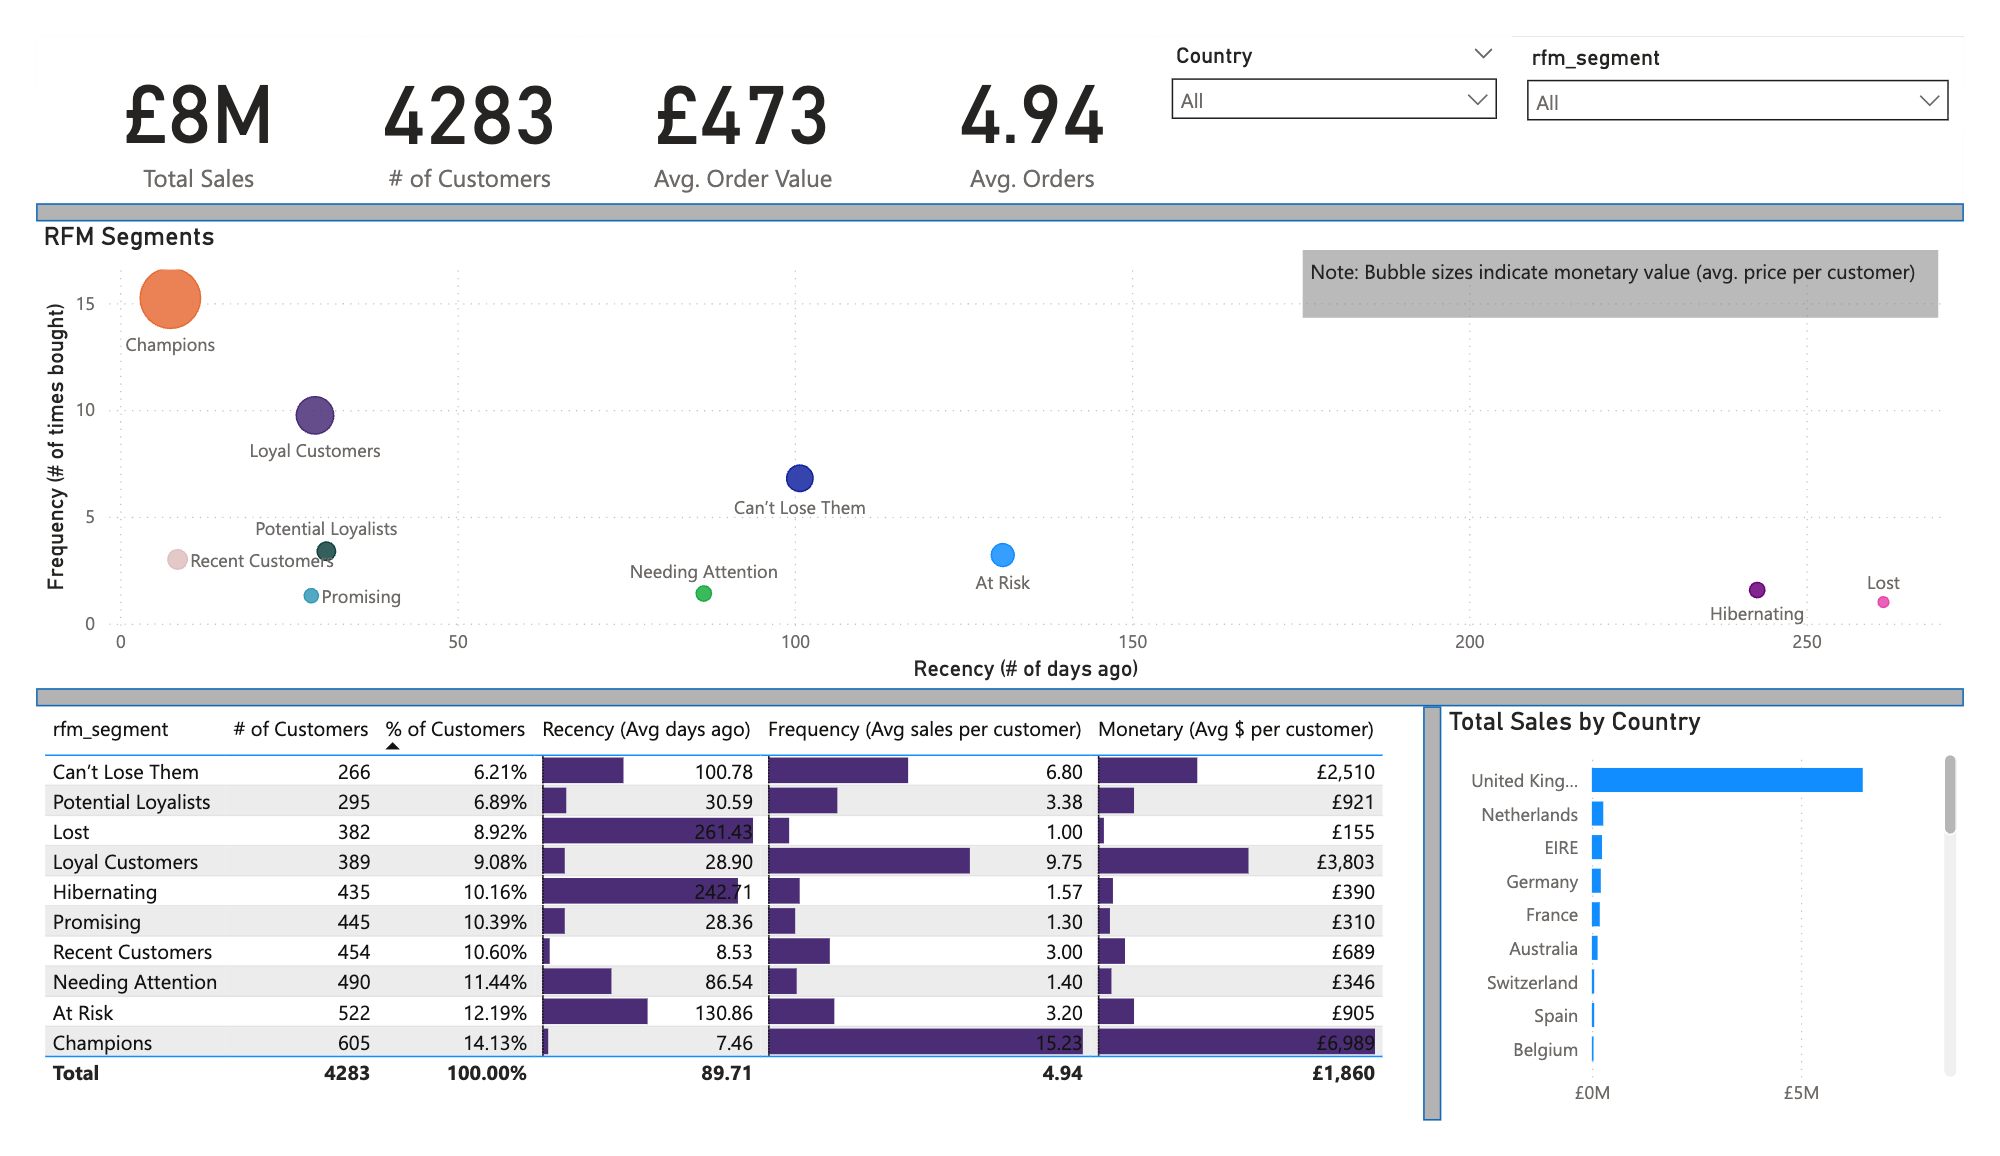

This screenshot's page, from the dashboard's own definition file:
{"tool":"powerbi","page":{"name":"Overview","canvas":[1280,720],"ordinal":0},"visuals":[{"type":"card","fields":{"Values":["Avg(Customers.frequency)"]},"box":[579.4,0,165,110.6],"z":0},{"type":"card","fields":{"Values":["Sum(Customers.monetary)"]},"box":[0,0,215.8,110.6],"z":1000},{"type":"card","fields":{"Values":["CountNonNull(Customers.CustomerID)"]},"box":[215.8,0,144.2,111.5],"z":2000},{"type":"card","fields":{"Values":["Orders.AOV"]},"box":[360,0,219.4,111.5],"z":3000},{"type":"scatterChart","title":"RFM Segments","fields":{"Y":["Customers.frequency"],"X":["Customers.recency"],"Series":["Customers.rfm_segment"],"Size":["Sum(Customers.monetary)"]},"box":[0,123,1280,310],"z":4000},{"type":"slicer","fields":{"Values":["Customers.Country"]},"box":[744.5,0,235.8,65.3],"z":5000},{"type":"tableEx","fields":{"Values":["Customers.rfm_segment","CountNonNull(Customers.CustomerID)","Divide(CountNonNull(Customers.CustomerID), ScopedEval(CountNonNull(Customers.CustomerID), [Role.Columns]))","Avg(Customers.recency)","Avg(Customers.frequency)","Avg(Customers.monetary)"]},"box":[0,445.2,921.3,263.9],"z":6000},{"type":"slicer","fields":{"Values":["Customers.rfm_segment"]},"box":[980.3,0.9,300.2,62.6],"z":7000},{"type":"clusteredBarChart","title":"Total Sales by Country","fields":{"Category":["Customers.Country"],"Y":["Sum(Customers.monetary)"]},"box":[933,445,347,275],"z":8000},{"type":"textbox","box":[841,142,422,45],"z":9000},{"type":"shape","box":[0,433,1280,12],"z":10000},{"type":"shape","box":[0,111,1280,12],"z":11000},{"type":"shape","box":[921,445,12,275],"z":12000}]}

Visuals, with their boxes in screenshot pixels (x1, y1, x2, y2), scaled from the page's 1280x720 canvas onto the 2000x1156 screenshot:
card - Avg(Customers.frequency): bbox=(905, 0, 1163, 178)
card - Sum(Customers.monetary): bbox=(0, 0, 337, 178)
card - CountNonNull(Customers.CustomerID): bbox=(337, 0, 562, 179)
card - Orders.AOV: bbox=(562, 0, 905, 179)
"RFM Segments" scatterChart: bbox=(0, 197, 1999, 695)
slicer - Customers.Country: bbox=(1163, 0, 1532, 105)
tableEx - Customers.rfm_segment x CountNonNull(Customers.CustomerID): bbox=(0, 715, 1440, 1138)
slicer - Customers.rfm_segment: bbox=(1532, 1, 1999, 102)
"Total Sales by Country" clusteredBarChart: bbox=(1458, 714, 1999, 1155)
textbox: bbox=(1314, 228, 1973, 300)
shape: bbox=(0, 695, 1999, 714)
shape: bbox=(0, 178, 1999, 197)
shape: bbox=(1439, 714, 1458, 1155)
